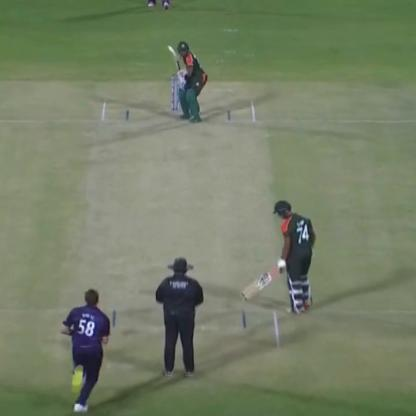bat: (240, 257, 288, 308), (156, 36, 191, 82)
pitch: (73, 93, 283, 363)
